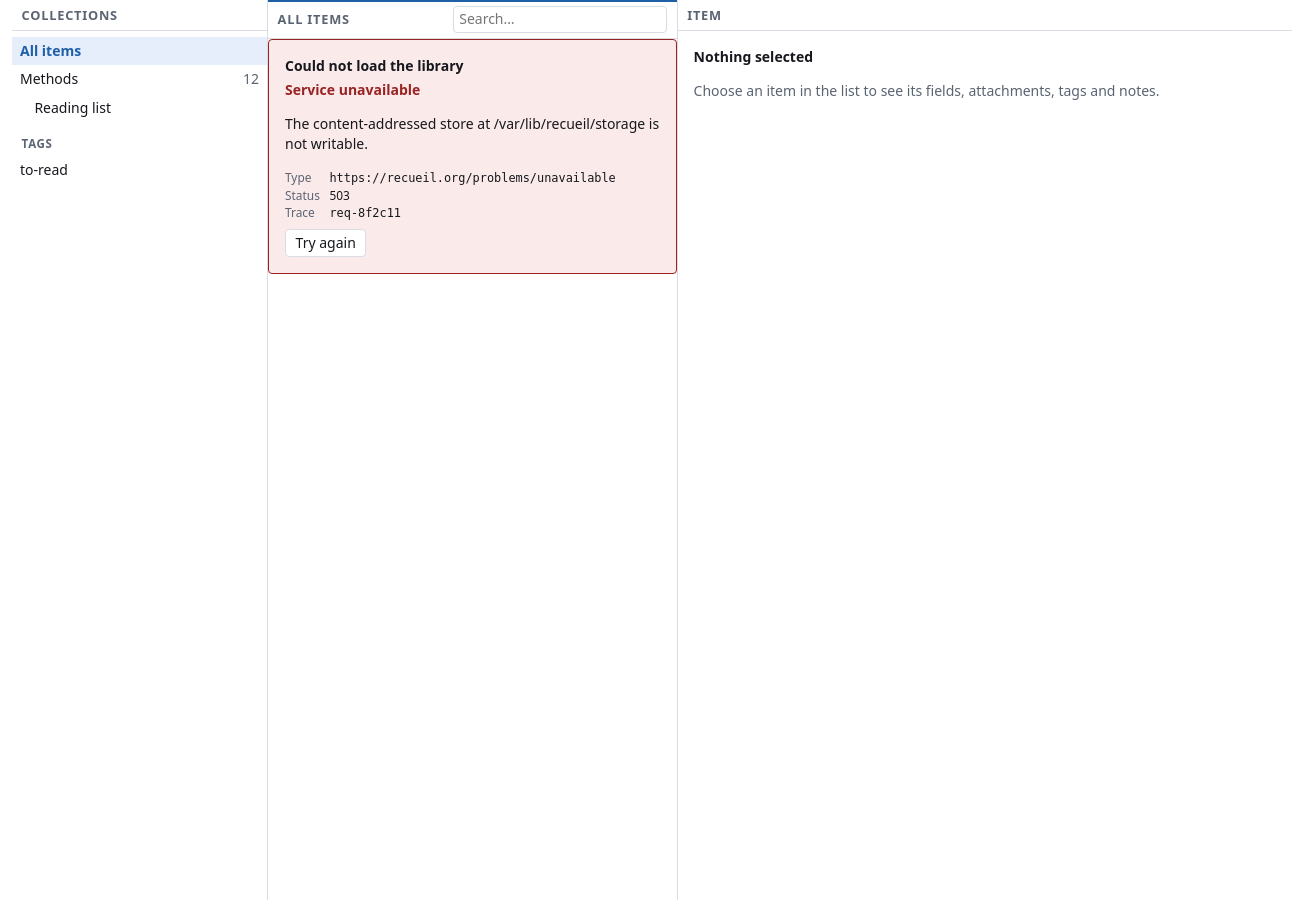
the library view › retries a failed list request when asked
The image size is (1292, 900).
Click the button "Try again": (326, 243) [285,229,366,258]
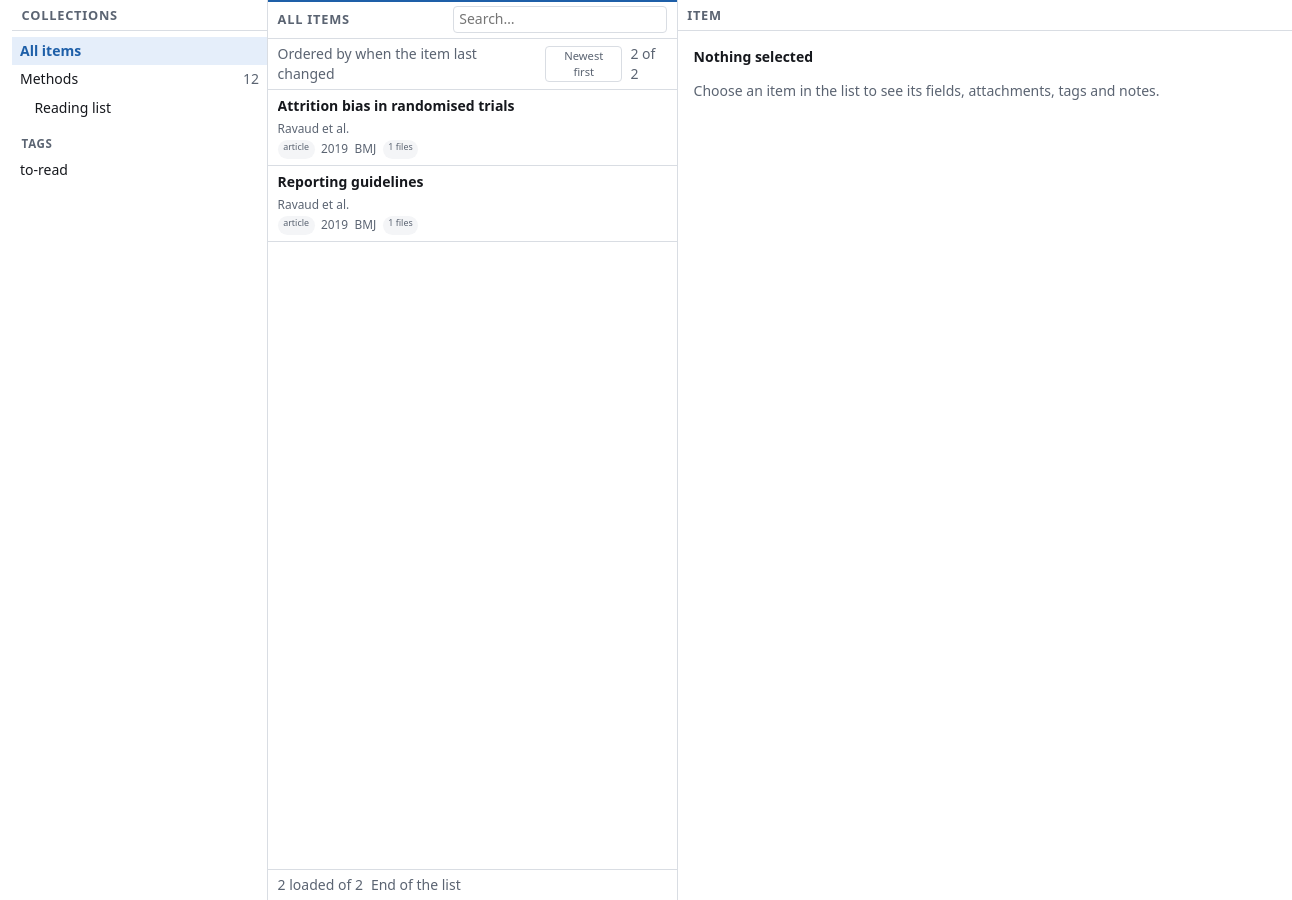
Result: the text "Attrition bias in randomised trials" is shown at [278,97,515,116]
